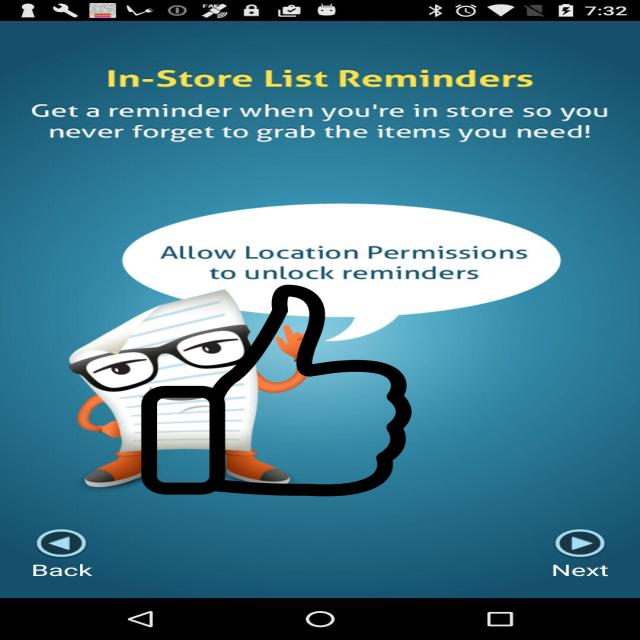privacy zuckering: (137, 285, 416, 496)
